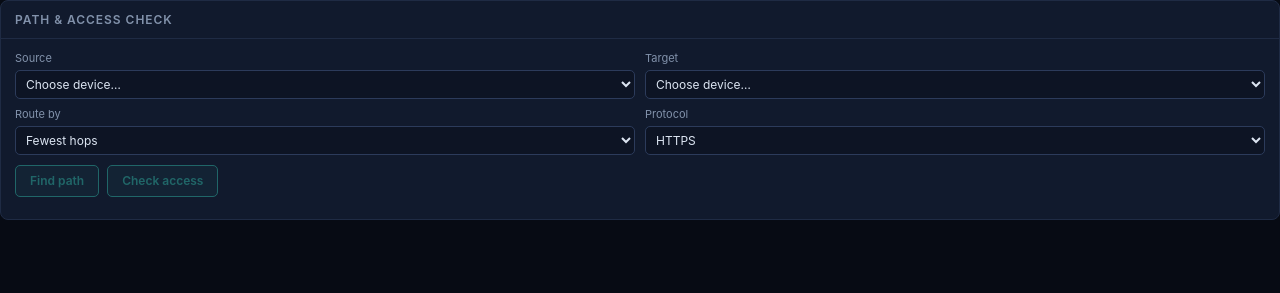
Scenario: PathAccessPanel › finds a path, lists it, and highlights it on the map
Select "Public Portal" in the dropdown labelled "Source" at [325, 85], box [15,70,635,99]
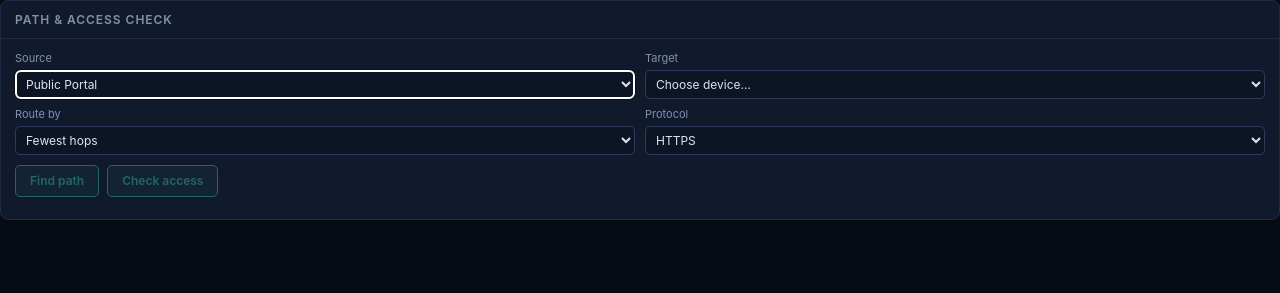
Select "Records Database" in the dropdown labelled "Target" at [955, 85], box [645,70,1265,99]
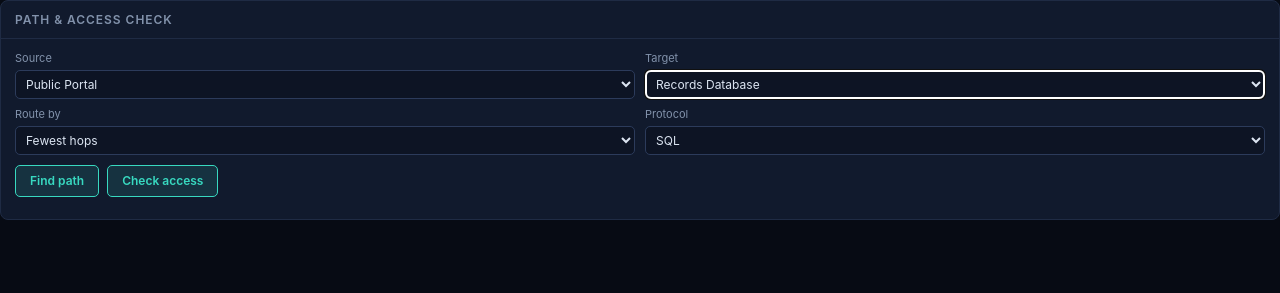
Select "Lowest latency" in the dropdown labelled "Route by" at [325, 141], box [15,126,635,155]
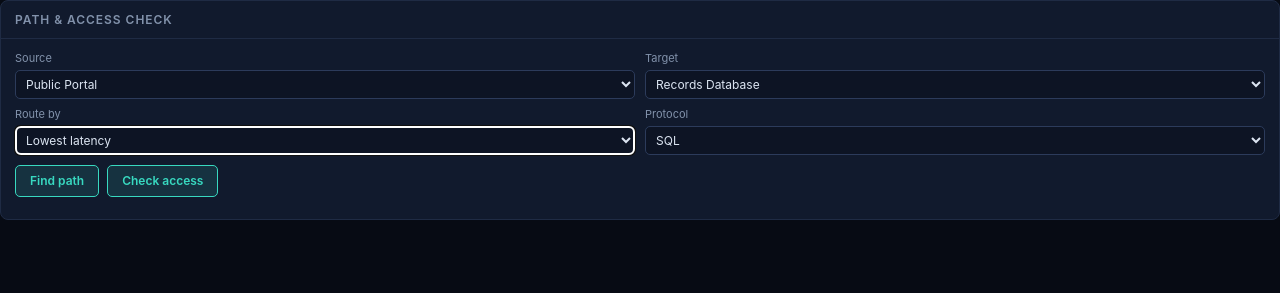
Click the button "Find path".
click(57, 181)  # box [15,165,99,197]
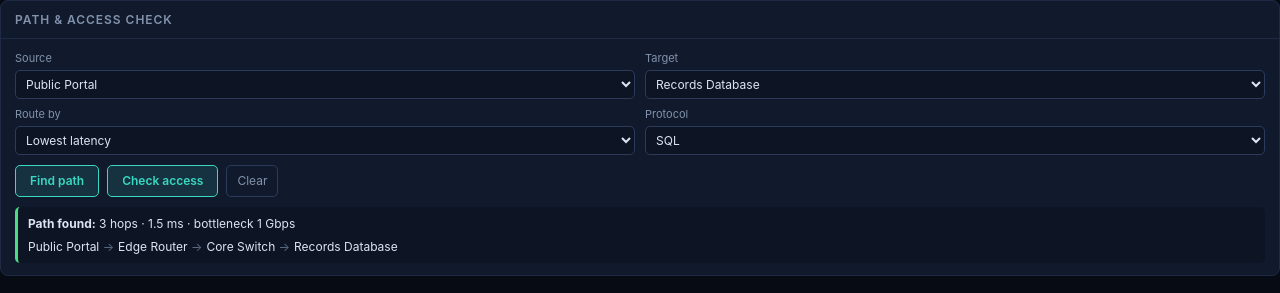
Result: the text "Path found: 3 hops · 1.5 ms · bottleneck 1 Gbps" is shown at [28,216,295,231]
Result: the list items read "Public Portal", "Edge Router", "Core Switch", "Records Database", in this order at [28,238,114,255]; [118,238,202,255]; [206,238,290,255]; [294,238,398,255]
